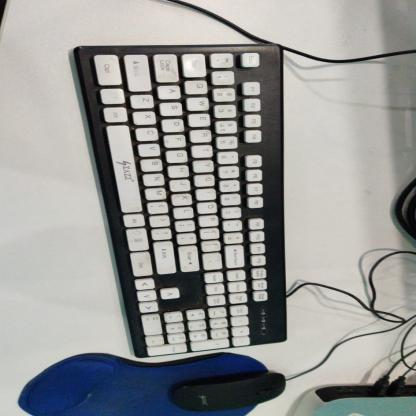keyboard: (117, 50, 289, 359)
